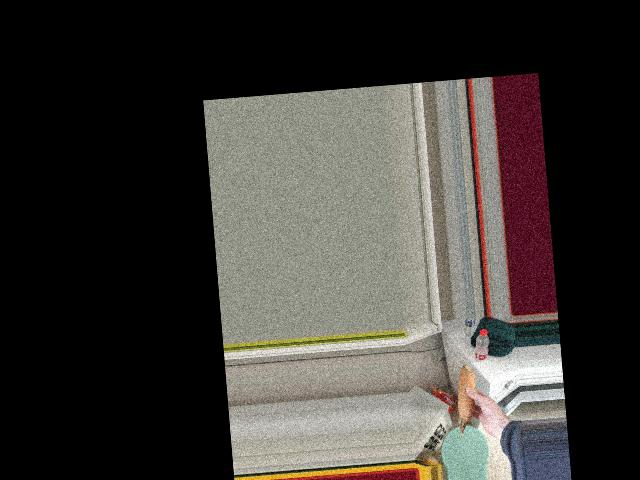sweet_potato: (452, 361, 476, 438)
